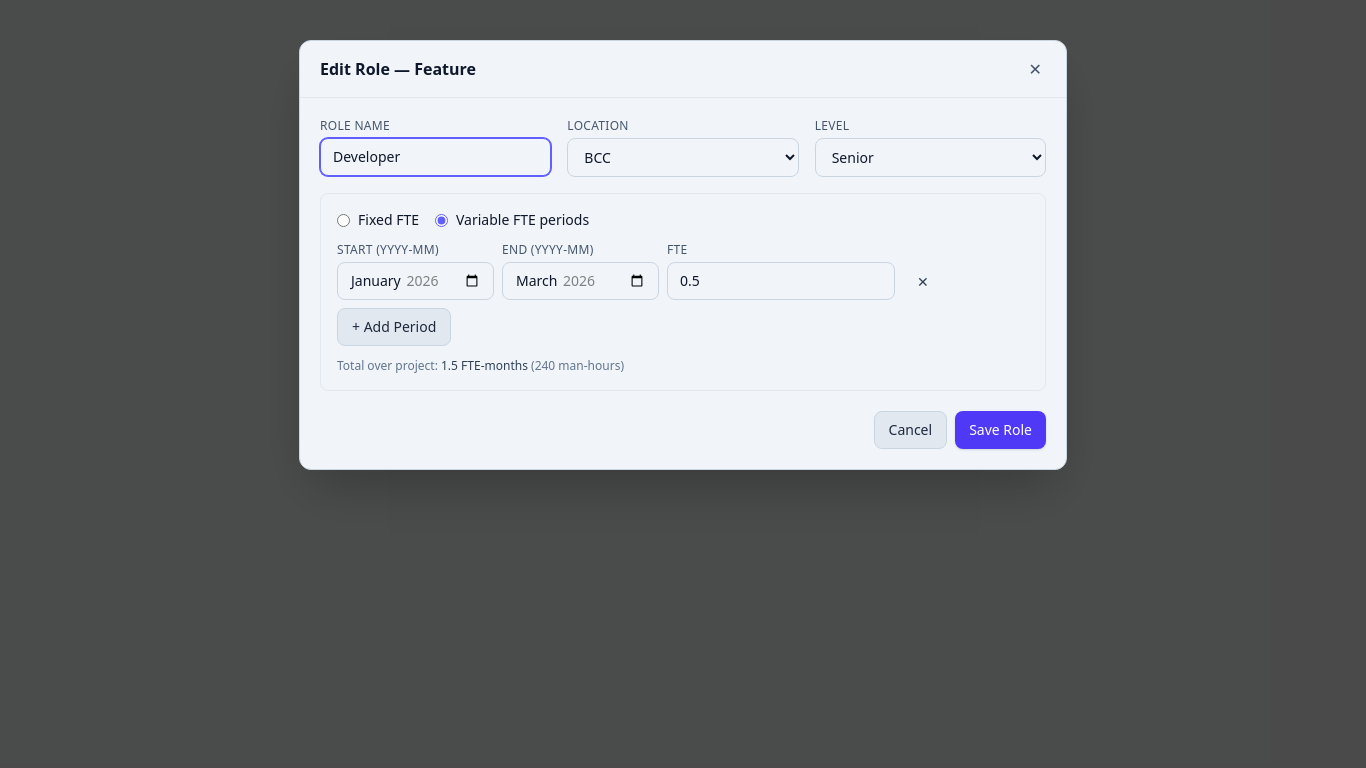
Test: known frontend regressions › starts a new allocation period in the month after the previous period
Click the button "+ Add Period": (394, 327) [337,308,451,346]
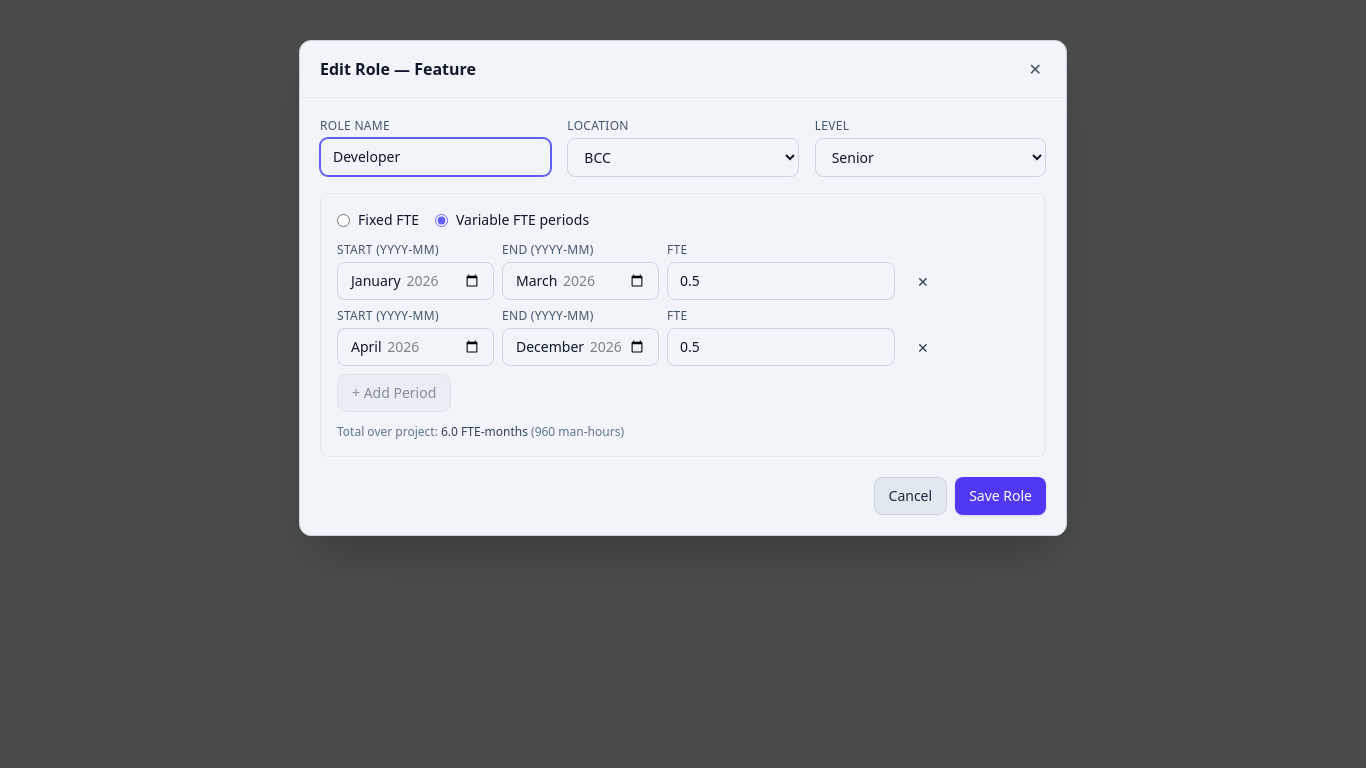
Now the field named "Period 2 start month" holds "2026-04", box [337,328,494,366]
